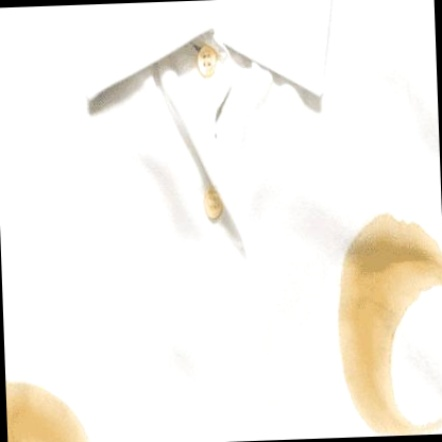coffee: (347, 231, 431, 298), (341, 312, 389, 406), (7, 392, 59, 442)
